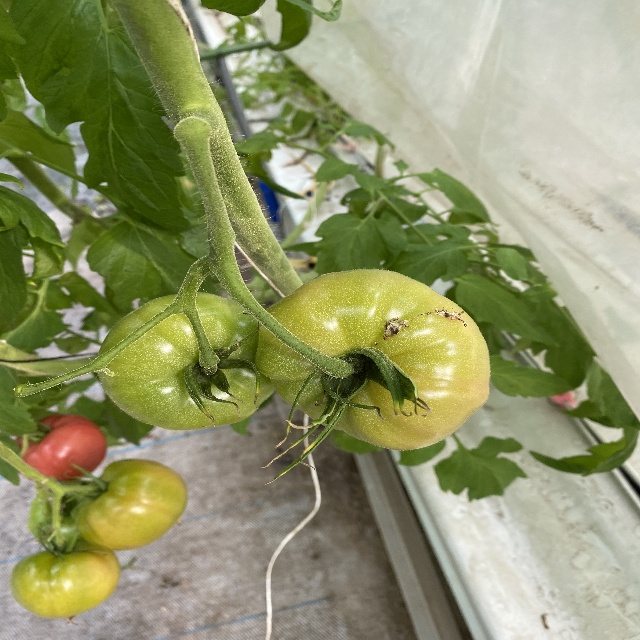b_fully_ripened: (13, 414, 108, 482)
b_green: (255, 269, 490, 451), (96, 292, 276, 430)
b_half_ripened: (74, 459, 188, 551), (10, 542, 120, 619)
